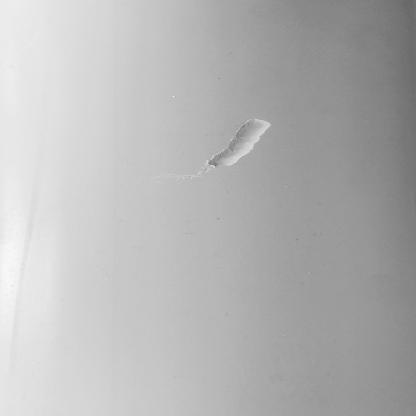sunshang: (201, 119, 272, 175)
